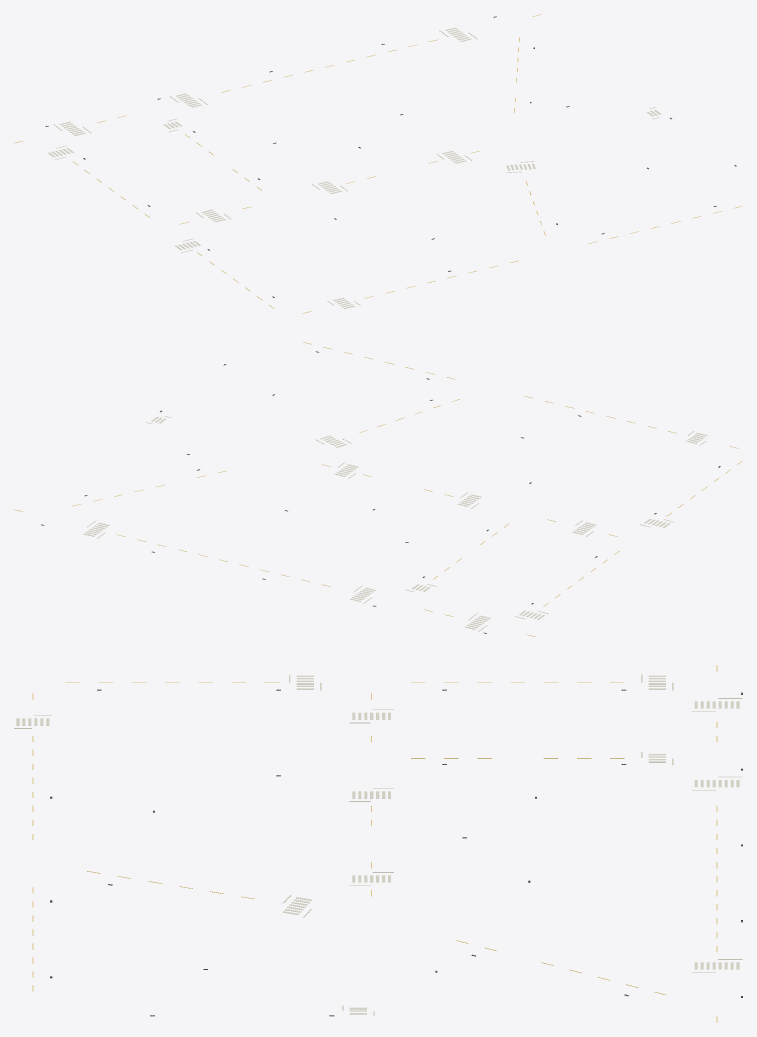
Rendered from Markings.fbx.
3 renders of one model, top to bottom at view 1: azimuth 30°, elevation 25°; view 2: azimuth 150°, elevation 25°; view 3: azimuth 270°, elevation 25°, orthographic. The views are drawn at different scales.
Visible parts, largest first — view 1: Street_Crosswalks_StopLines_CenterLines.001; view 2: Street_Crosswalks_StopLines_CenterLines.001; view 3: Street_Crosswalks_StopLines_CenterLines.001.
Part boxes in pixels (x1=…): Street_Crosswalks_StopLines_CenterLines.001: x1=14, y1=14, x2=742, y2=313; Street_Crosswalks_StopLines_CenterLines.001: x1=14, y1=342, x2=742, y2=636; Street_Crosswalks_StopLines_CenterLines.001: x1=14, y1=665, x2=742, y2=1022.
Bounding box in the file's own units: 127 × 0.034 × 110.
